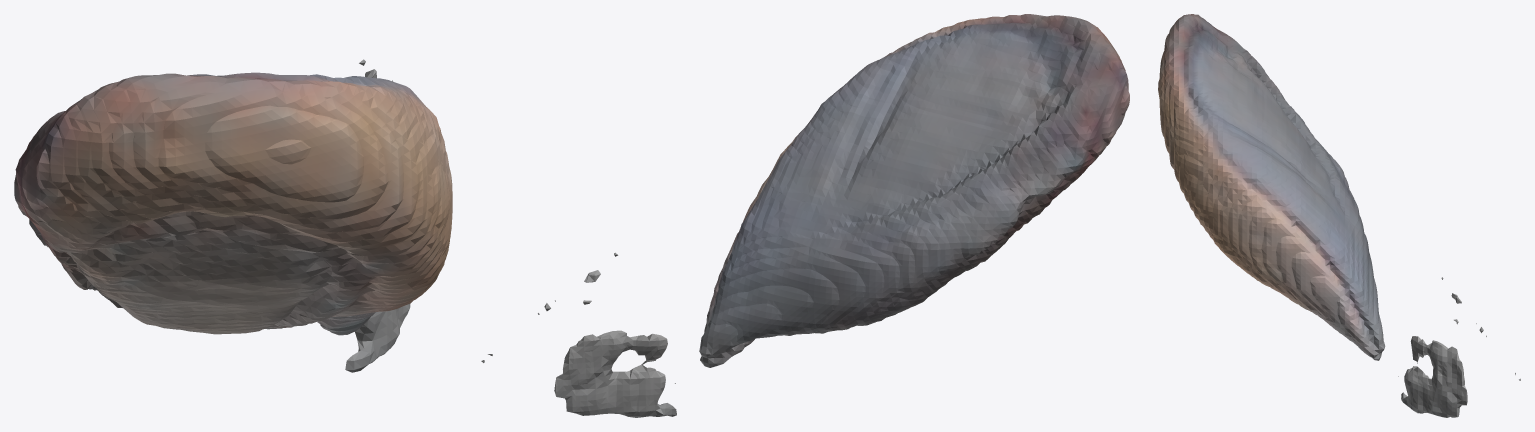
The picture shows the model from 3 angles, left to right: view 1: azimuth 30°, elevation 25°; view 2: azimuth 150°, elevation 25°; view 3: azimuth 270°, elevation 25°; orthographic projection. The views are drawn at different scales.
Visible parts, largest first — view 1: world; view 2: world; view 3: world.
Part boxes in pixels (bbox=[...]): world: bbox=[14, 59, 452, 372]; world: bbox=[481, 14, 1129, 417]; world: bbox=[1158, 14, 1520, 417].
Bounding box in the file's own units: 0.5616 × 0.433 × 0.5075.
